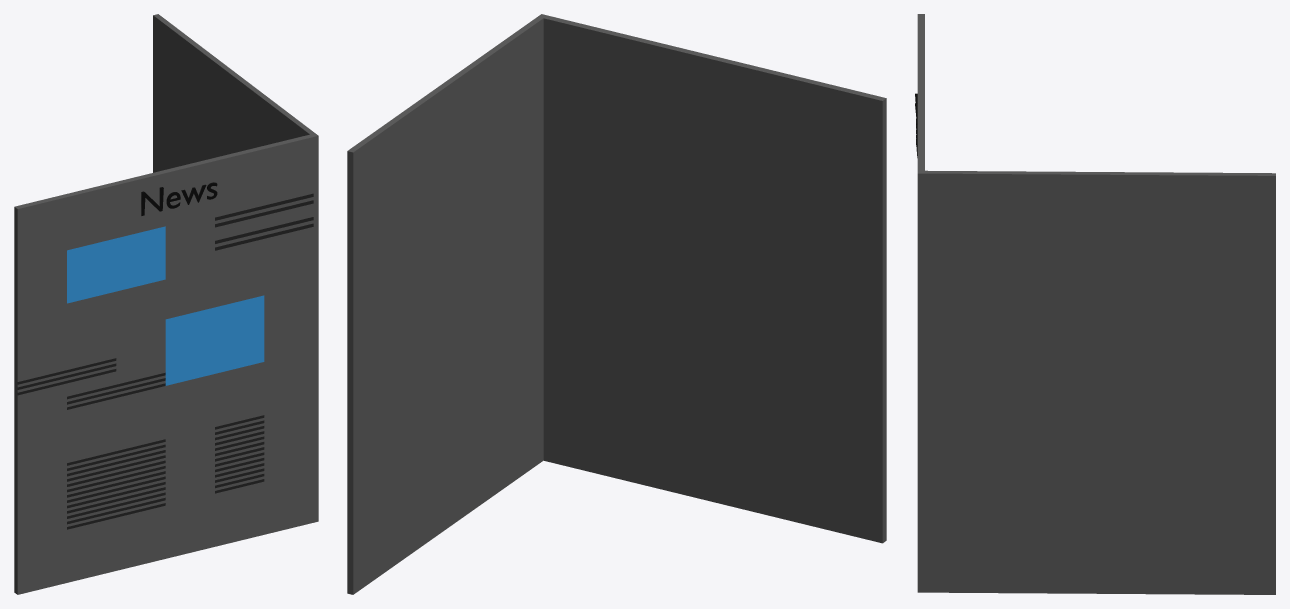
The model's file is news.fbx.
The picture shows the model from 3 angles, left to right: view 1: azimuth 30°, elevation 25°; view 2: azimuth 150°, elevation 25°; view 3: azimuth 270°, elevation 25°; orthographic projection. The views are drawn at different scales.
Parts seen in each view (by area): view 1: Cube, Text; view 2: Cube; view 3: Cube.
Boxes of the visible parts, x1=… form: Cube: x1=14, y1=14, x2=318, y2=594; Text: x1=141, y1=182, x2=217, y2=215; Cube: x1=347, y1=14, x2=886, y2=594; Cube: x1=917, y1=14, x2=1275, y2=594.
Size of the model in its own units: 1.66 by 2 by 1.56.
